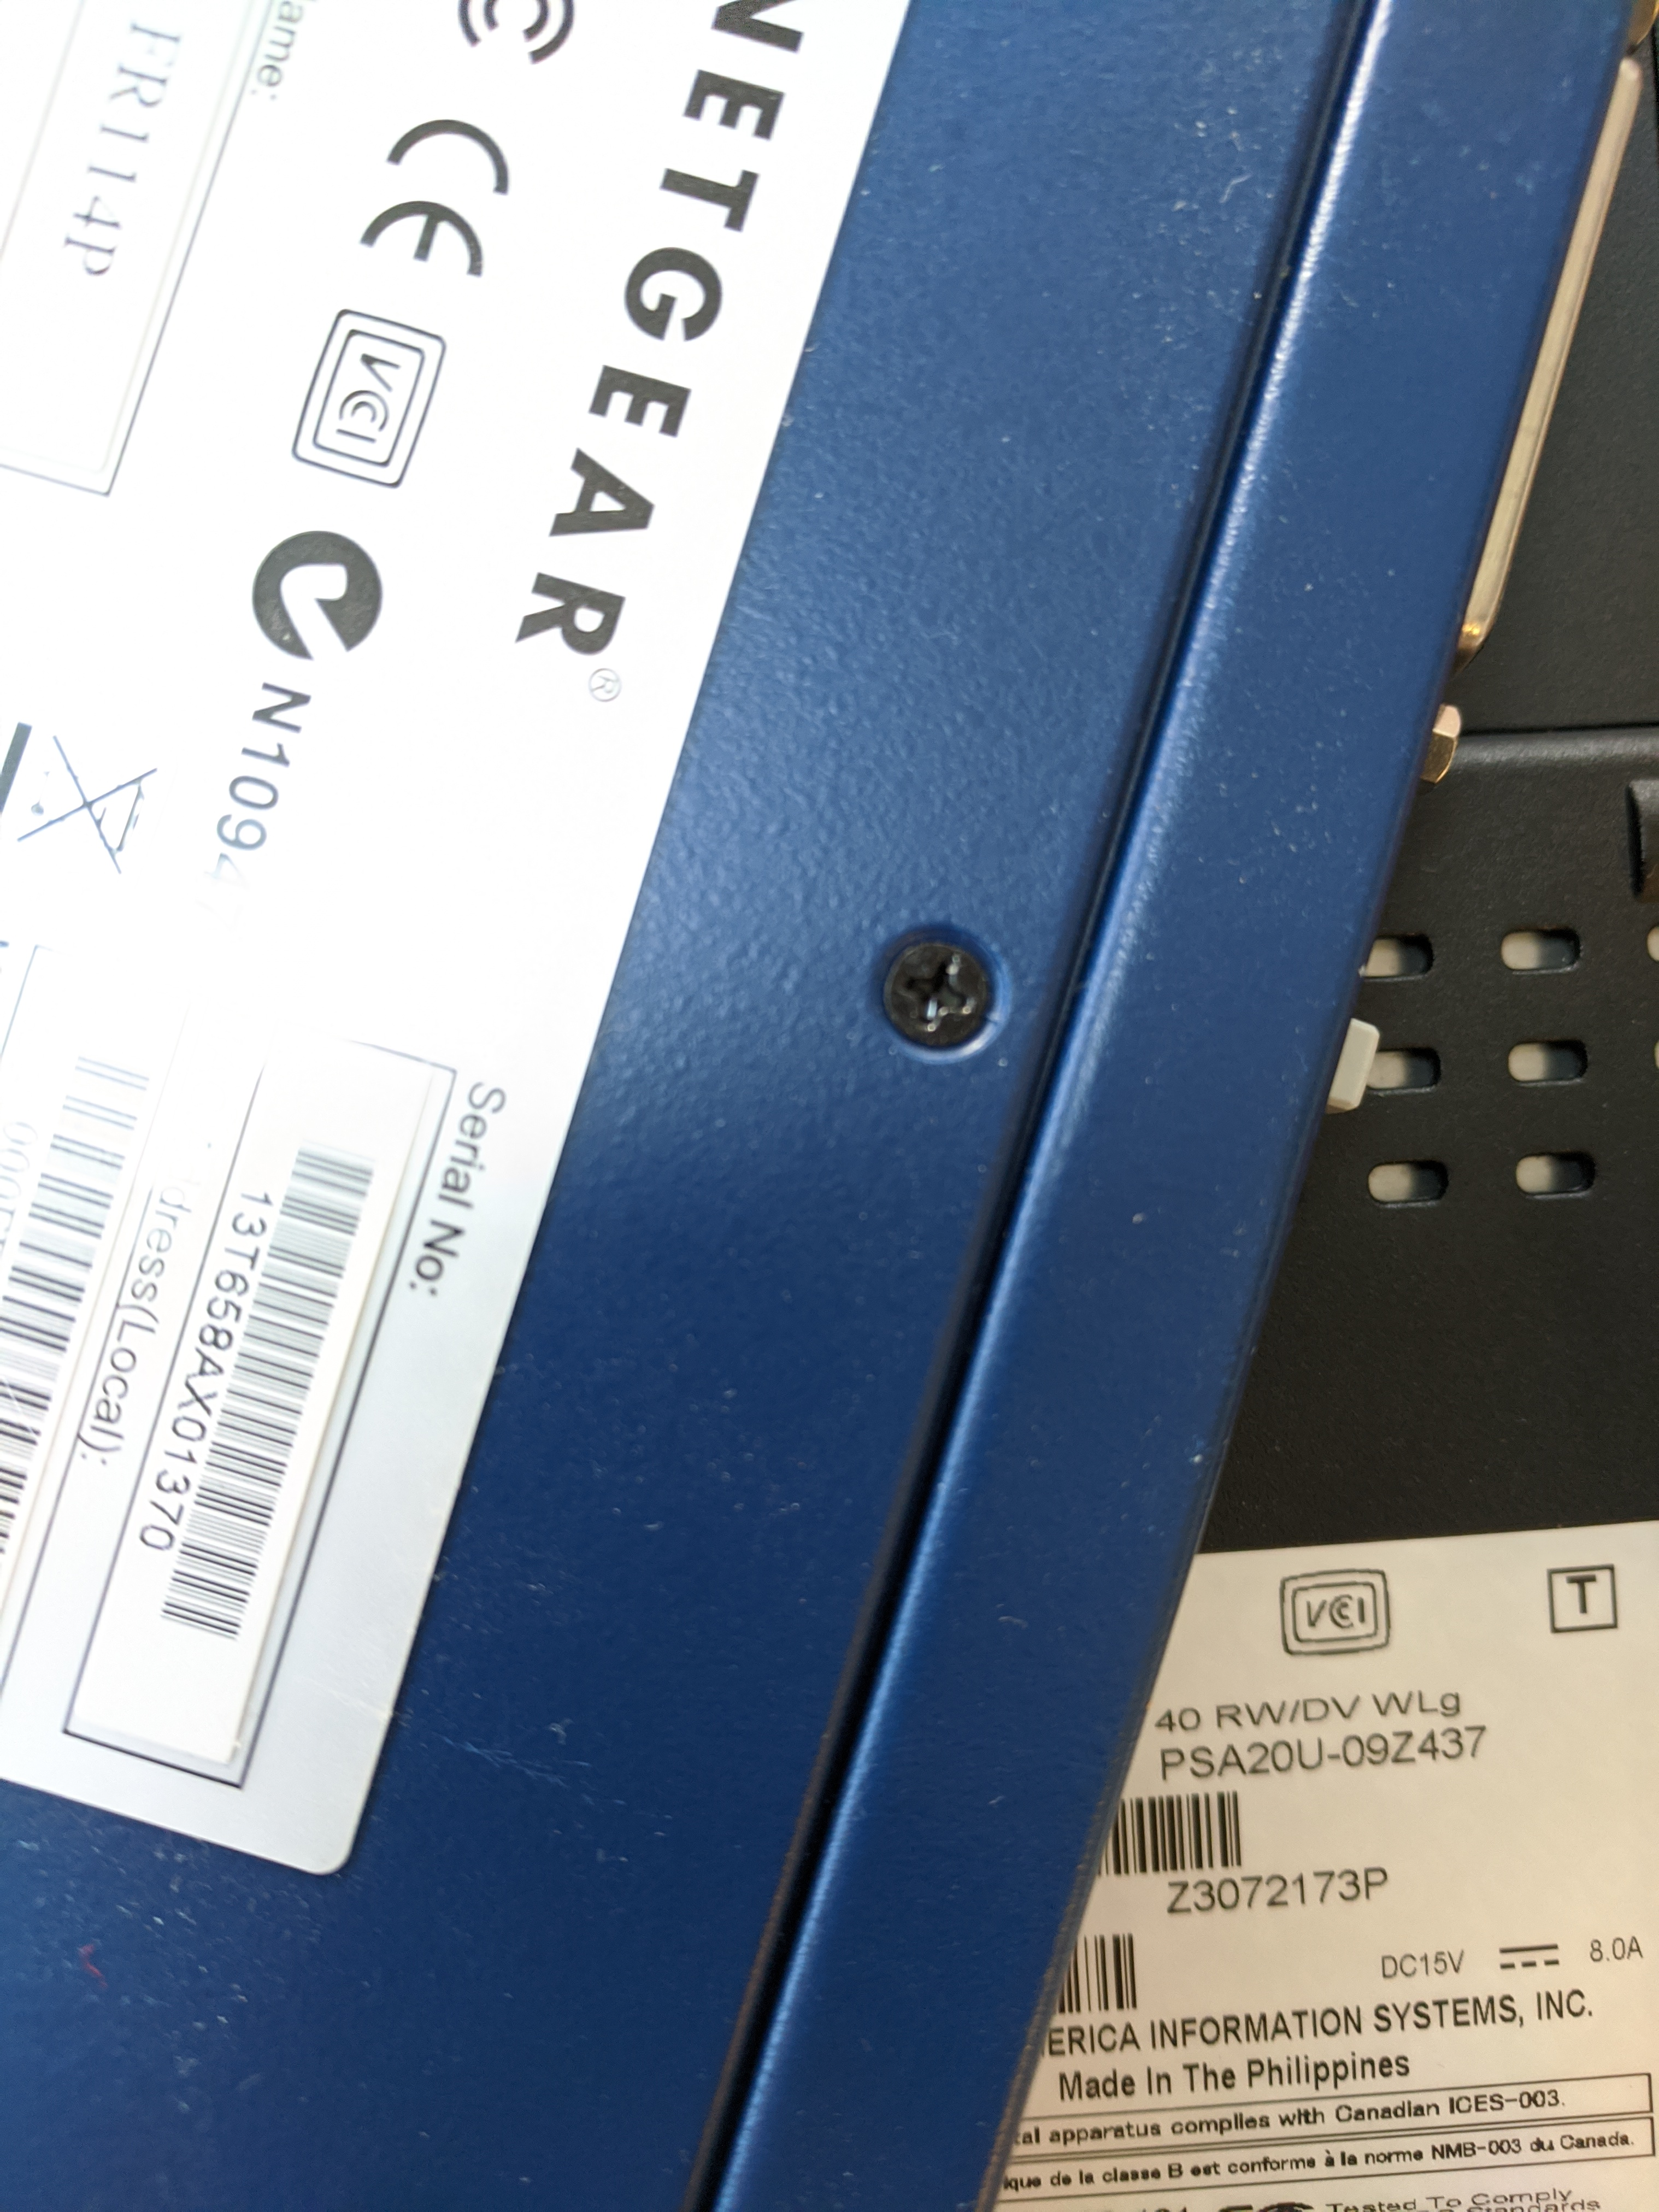cross_recessed_screw: (868, 927, 999, 1038)
